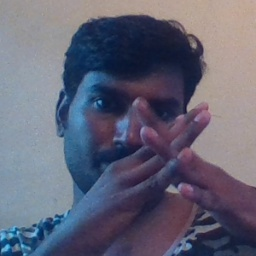W: (108, 79, 233, 216)
